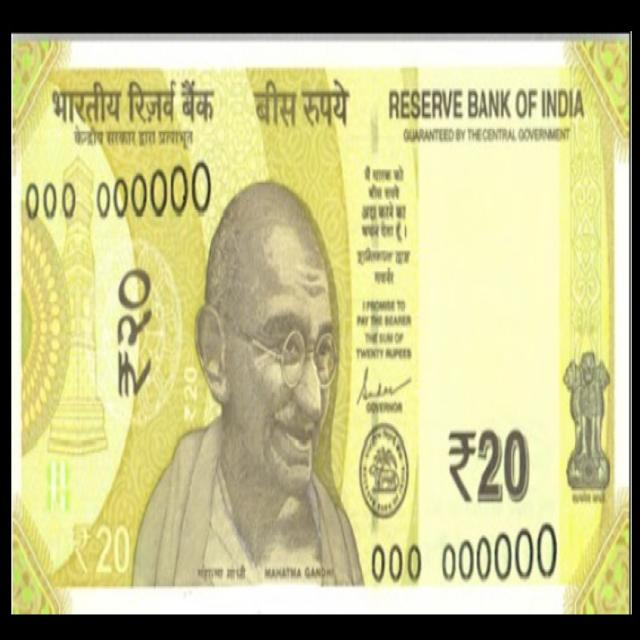20IndianRupees: (12, 33, 629, 612), (245, 36, 630, 614), (13, 35, 364, 615)
